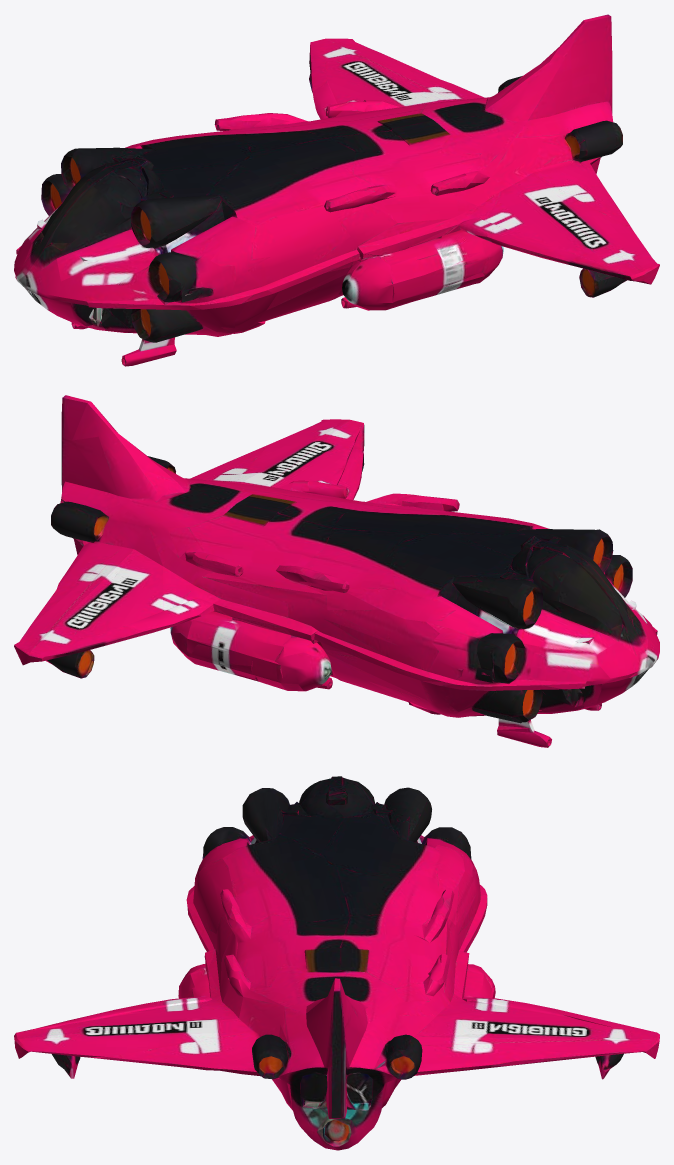
The model's file is nation-n-carrier.glb.
3 views of the same model, one above another, from view 1: azimuth 30°, elevation 25°; view 2: azimuth 150°, elevation 25°; view 3: azimuth 270°, elevation 25° (orthographic).
Bounding box in the file's own units: 1.9 × 0.6475 × 1.8.
1 material, 1 textured.
